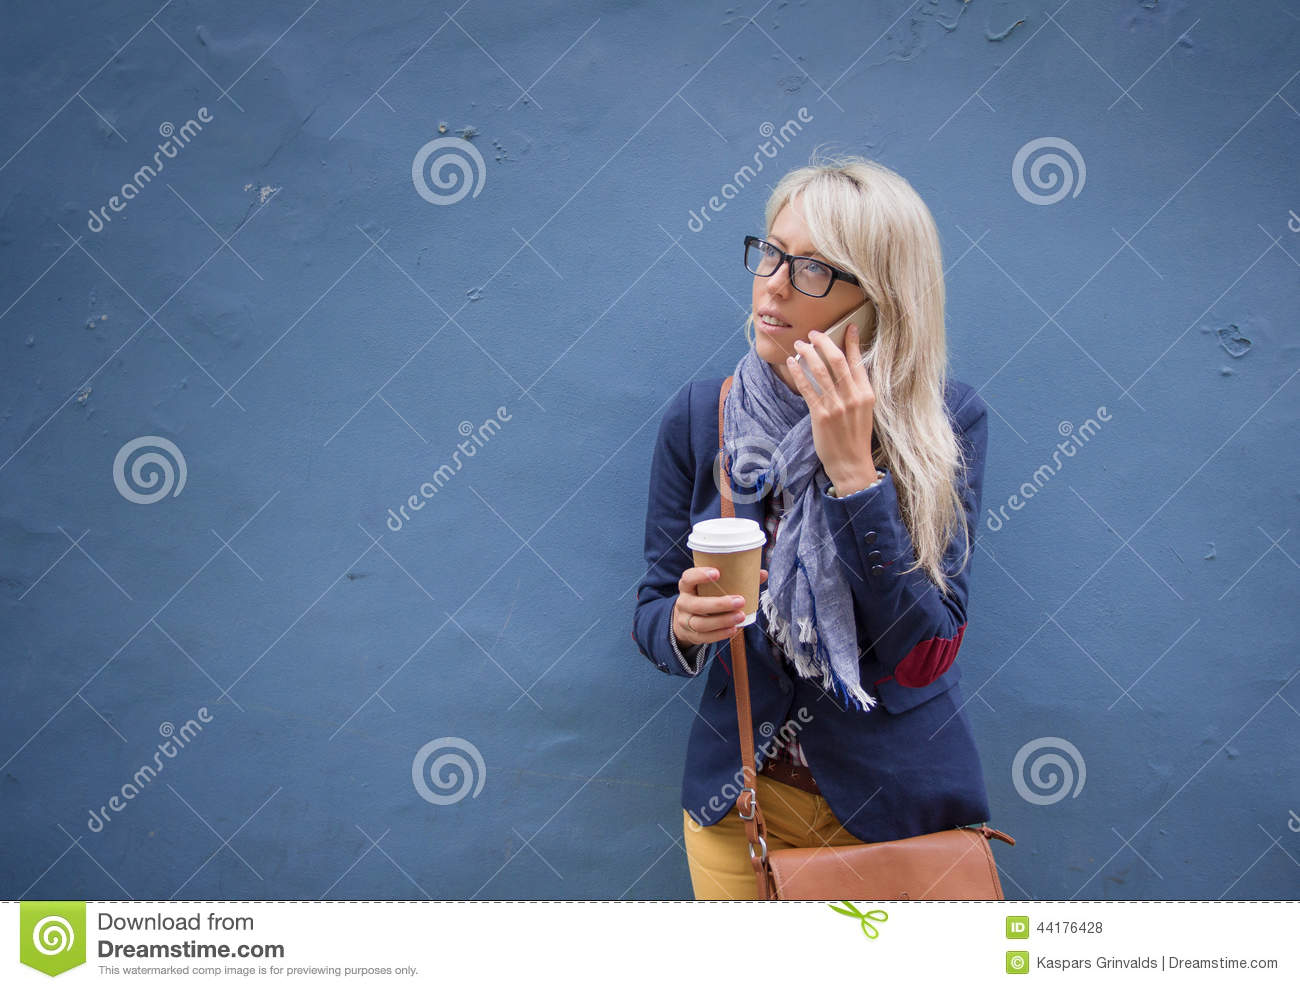phone: (795, 292, 888, 398)
talk: (751, 232, 888, 484)
